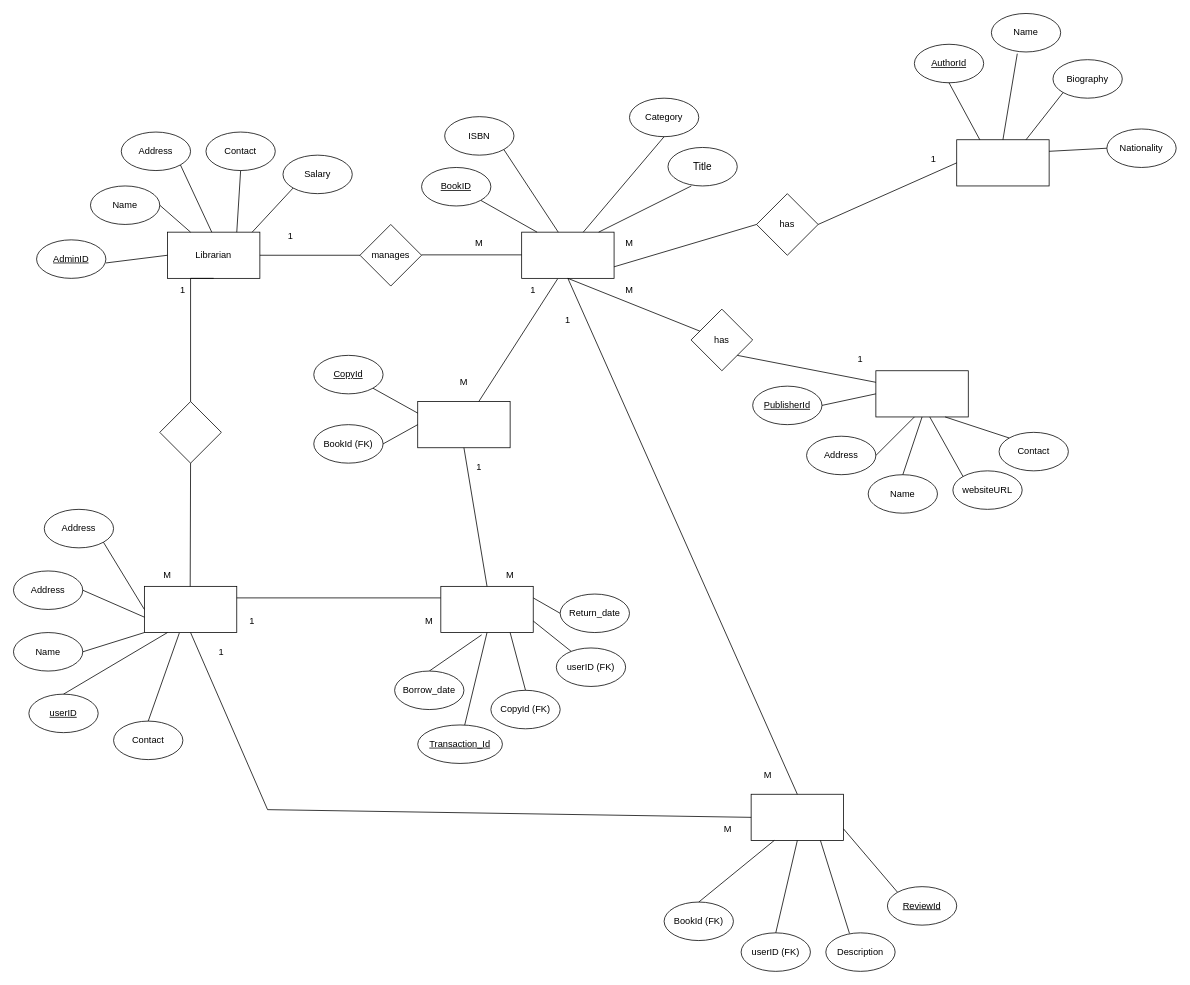
This 1190x985 diagram has some shape labels left out. The shapes that lost their labels are listed below. From the top down, each one's centre as x and y in pixels, then its label:
At pixel 1002 162: "Author".
At pixel 567 254: "Books".
At pixel 921 393: "Publisher".
At pixel 190 432: "issues".
At pixel 463 424: "Copies".
At pixel 190 609: "User".
At pixel 486 609: "Transaction".
At pixel 797 816: "Review".
